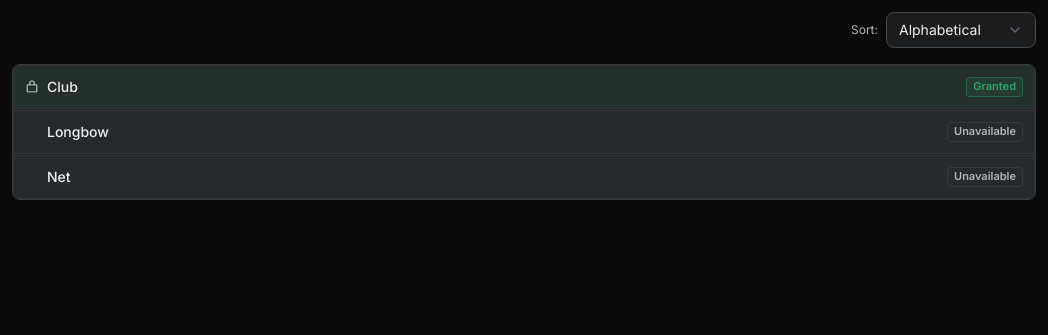
Test case: BuildProficienciesTabsPanel category panels › preserves weapon category grouping and proficiency ordering
This screenshot has width=1048, height=335.
Click the dropdown at (961, 30), box [886,12,1036,48]
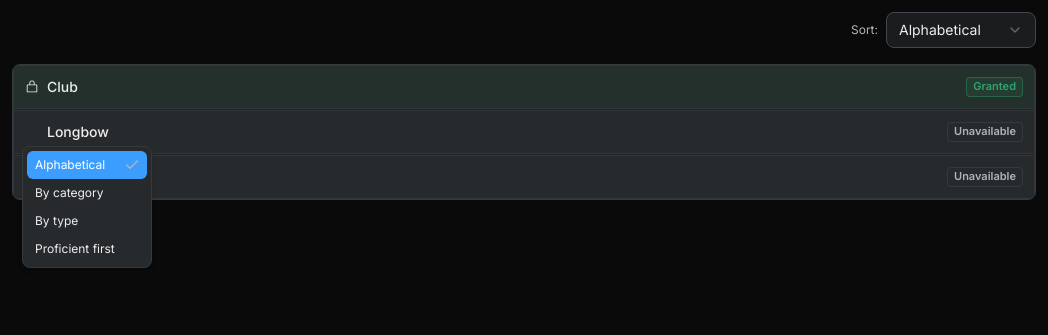
Click the option "By category" at (69, 192), box [35,185,104,200]
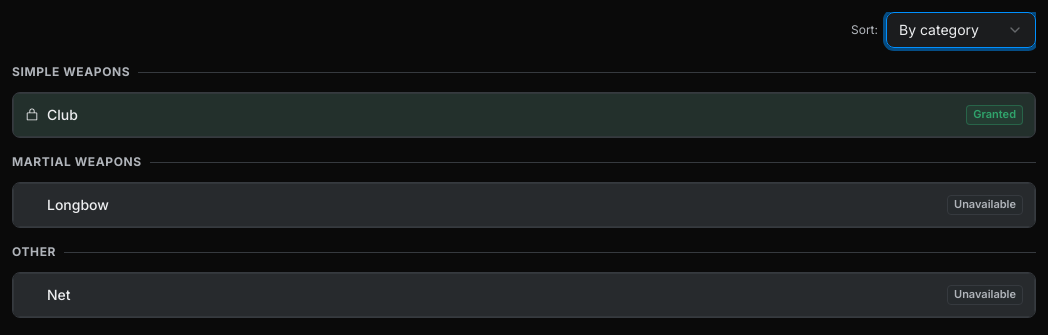
Check: the text "Simple Weapons" is shown, box [12,64,130,80]
Check: the text "Martial Weapons" is shown, box [12,154,142,170]
Check: the text "Other" is shown, box [12,244,56,260]
Click the dropdown at (961, 30), box [886,12,1036,48]
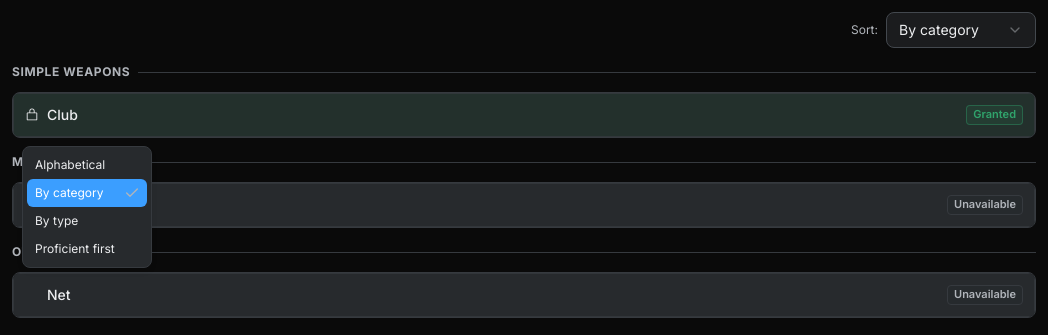
Click the option "Proficient first" at (75, 248), box [35,241,115,256]
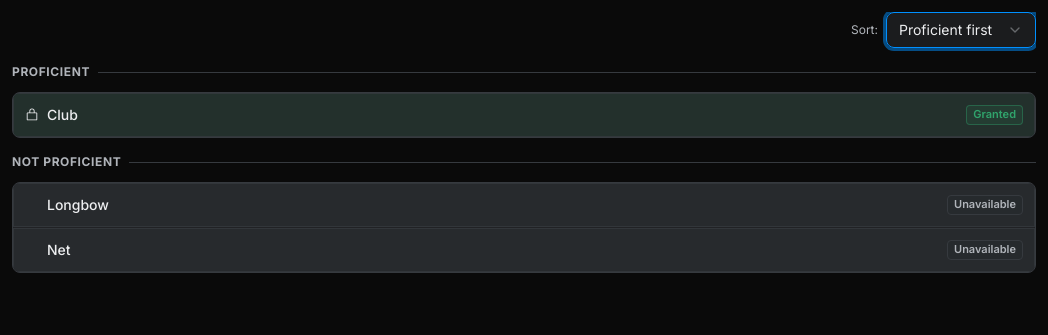
Check: the text "Proficient" is shown, box [12,64,90,80]
Check: the text "Not Proficient" is shown, box [12,154,121,170]
